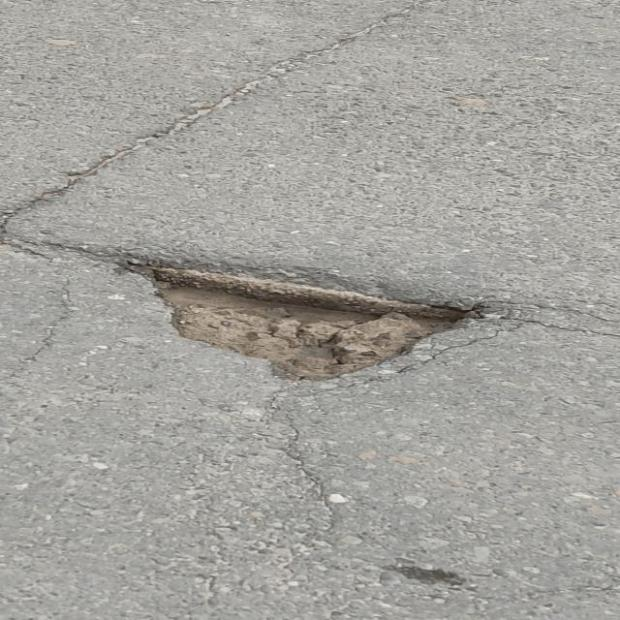lubang: (99, 254, 473, 379)
